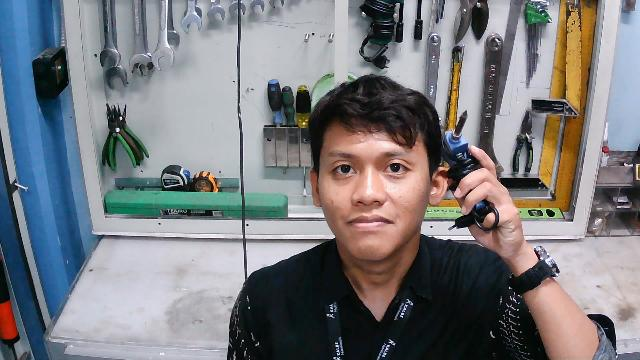solder_electrical: (439, 107, 500, 235)
